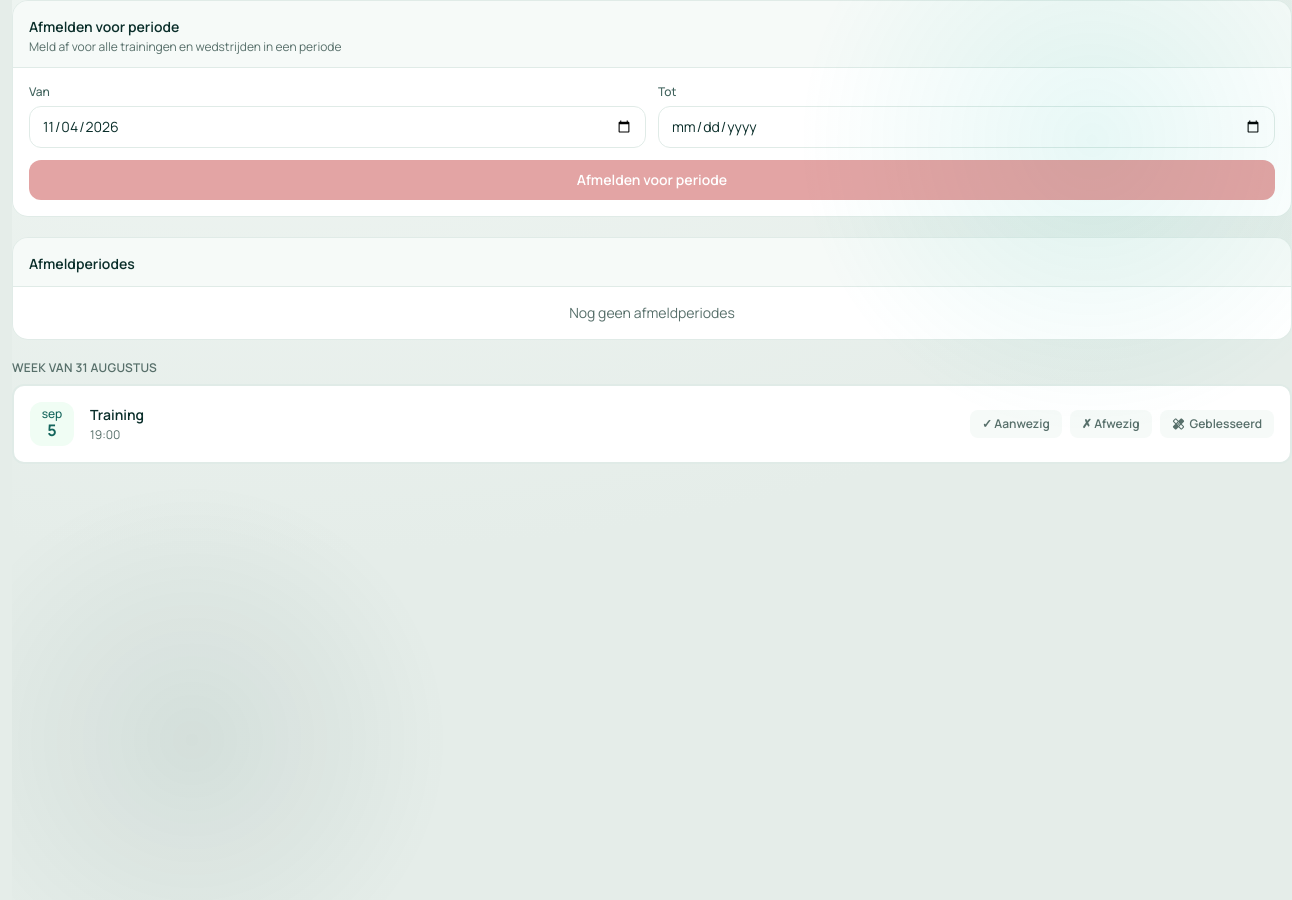
Test: foutafhandeling rond markAbsentForPeriod/revokeAbsencePeriod (bevinding 4) › draait de optimistische periode-afmelding terug en toont een foutmelding als markAbsentForPeriod afwijst
Step 1. Type "2026-09-01" into the 1st date field → [338, 127], box x1=29 y1=106 x2=646 y2=148
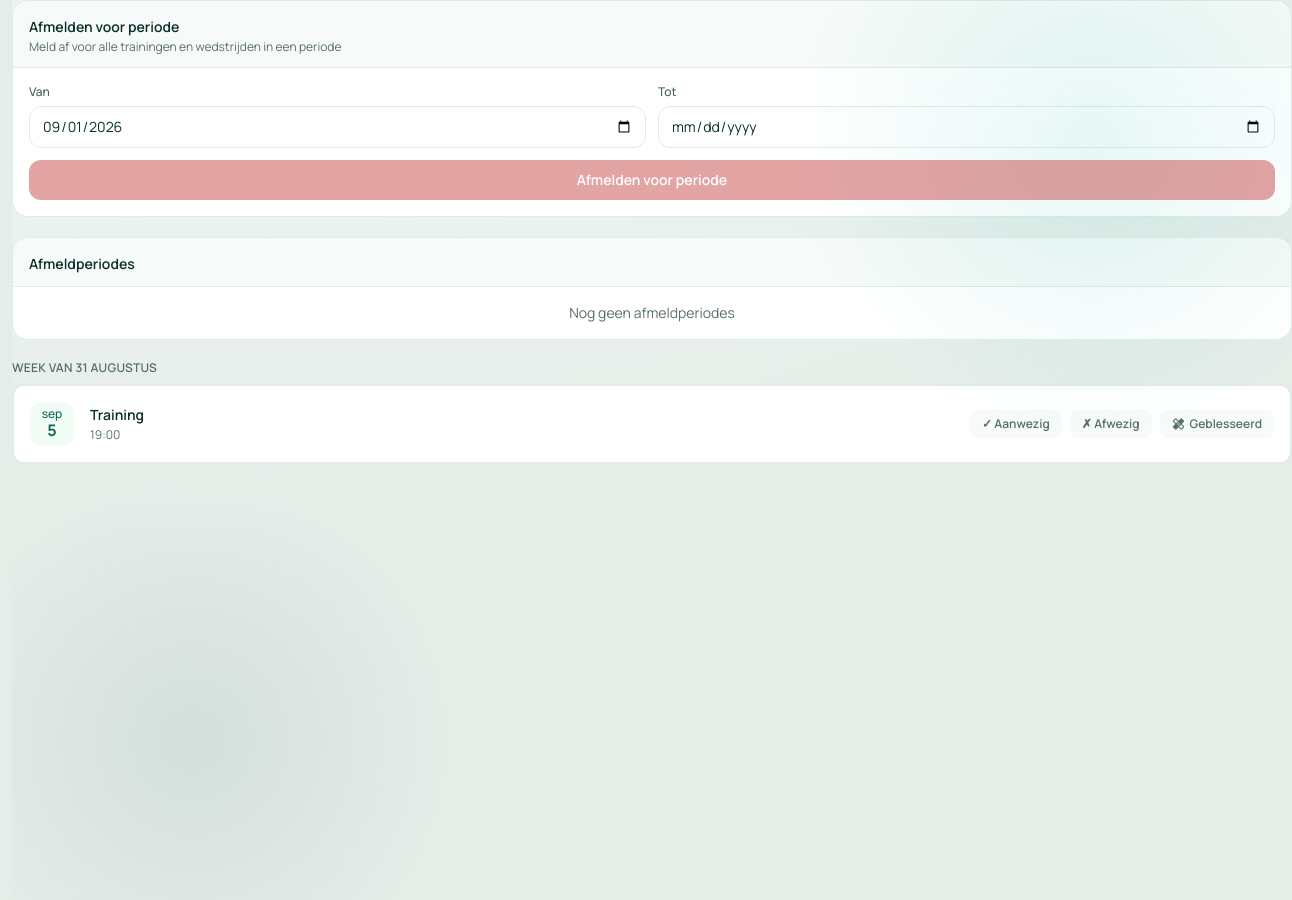
Step 2. Type "2026-09-10" into the date field below "Tot" → [966, 127], box x1=658 y1=106 x2=1275 y2=148
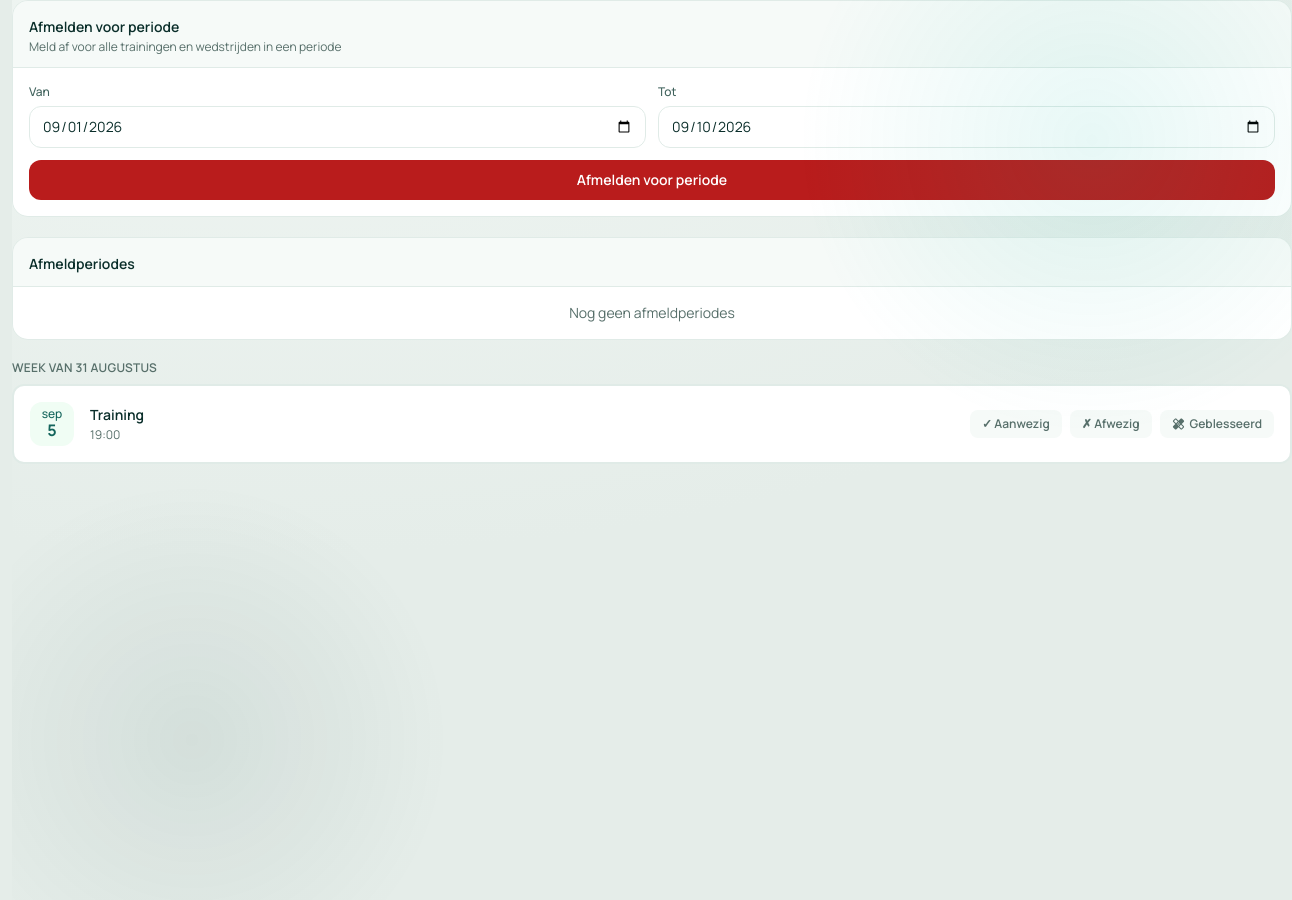
Step 3. Click the button "Afmelden voor periode" → [652, 180], box x1=29 y1=160 x2=1275 y2=200
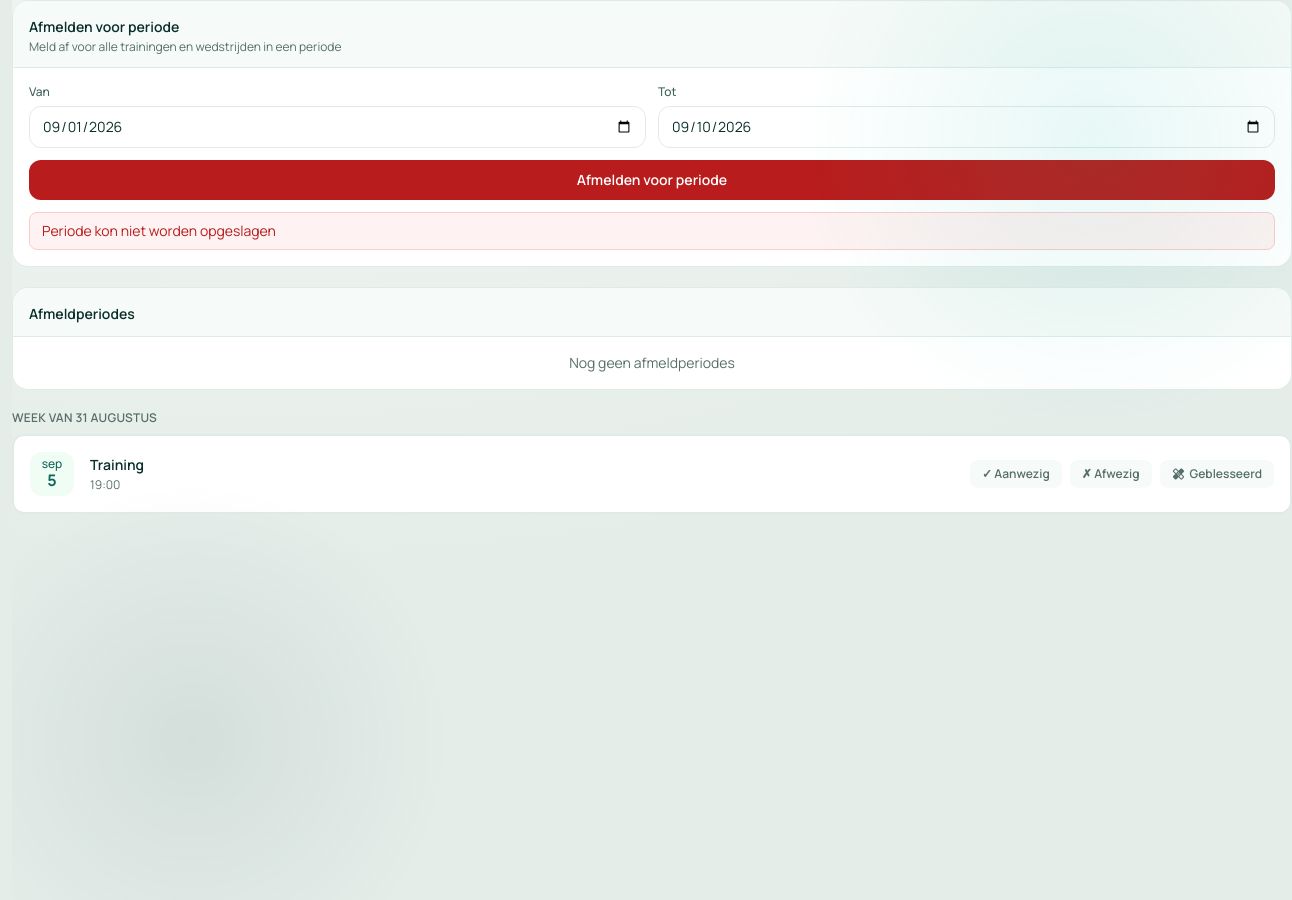
expect the text "Nog geen afmeldperiodes" is shown: met, box x1=569 y1=353 x2=735 y2=372
expect the text "Periode kon niet worden opgeslagen" is shown: met, box x1=29 y1=212 x2=1275 y2=250
